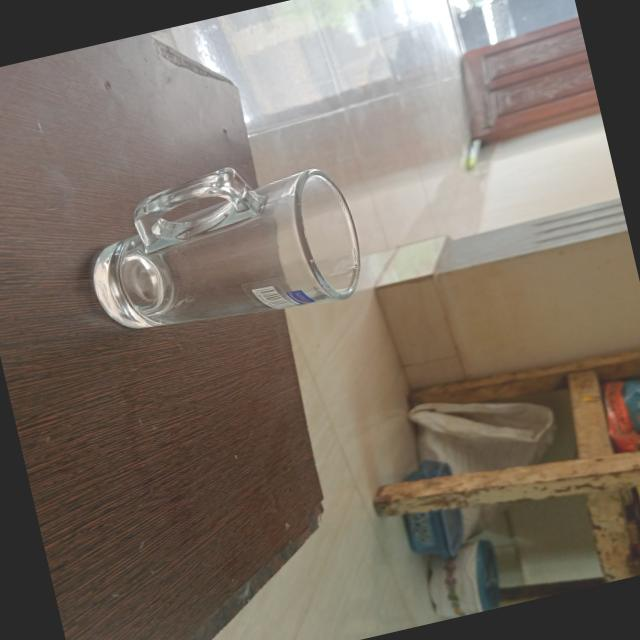glass-VX4N: (69, 142, 370, 352)
